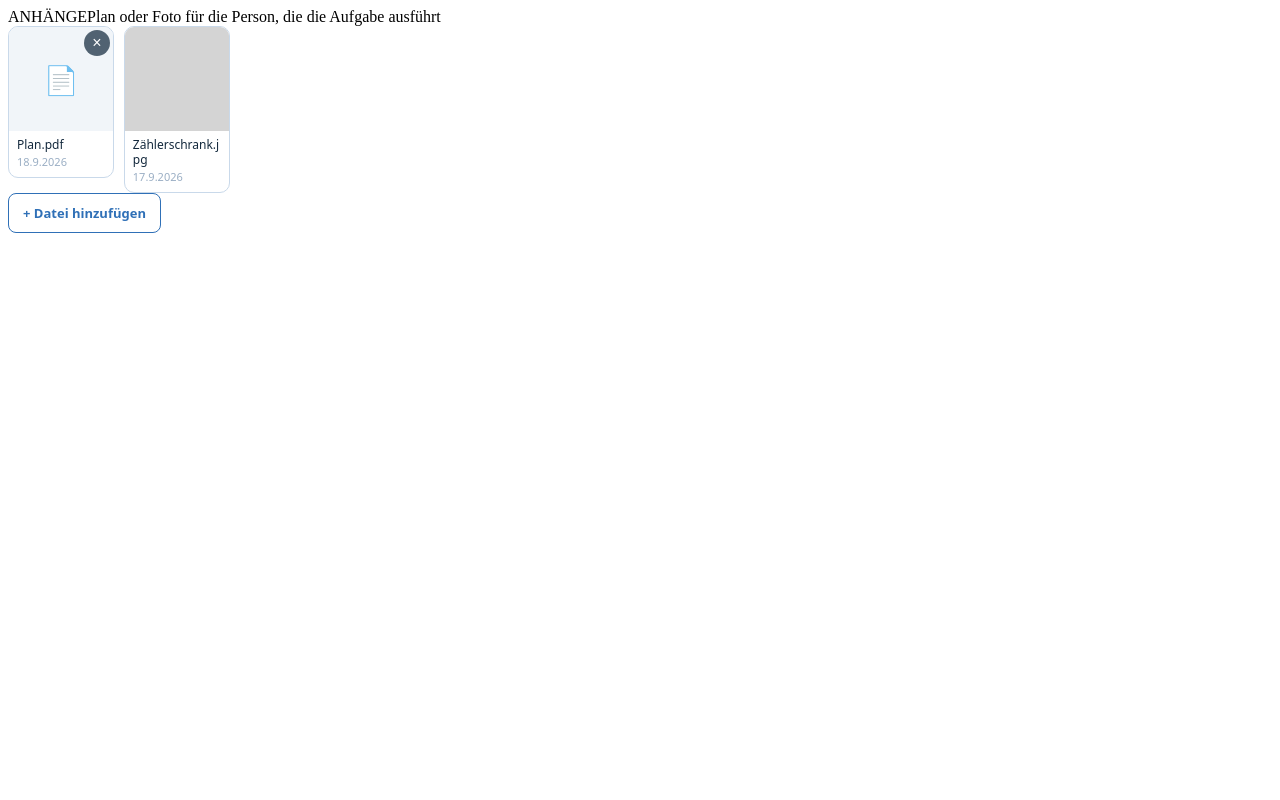
Test: TaskAttachments — an existing task › opens the viewer on the clicked file, with the task named under it
Click the button "📎 Zählerschrank.jpg 17.9.2026". click: (177, 109)
box: [124,26,230,193]
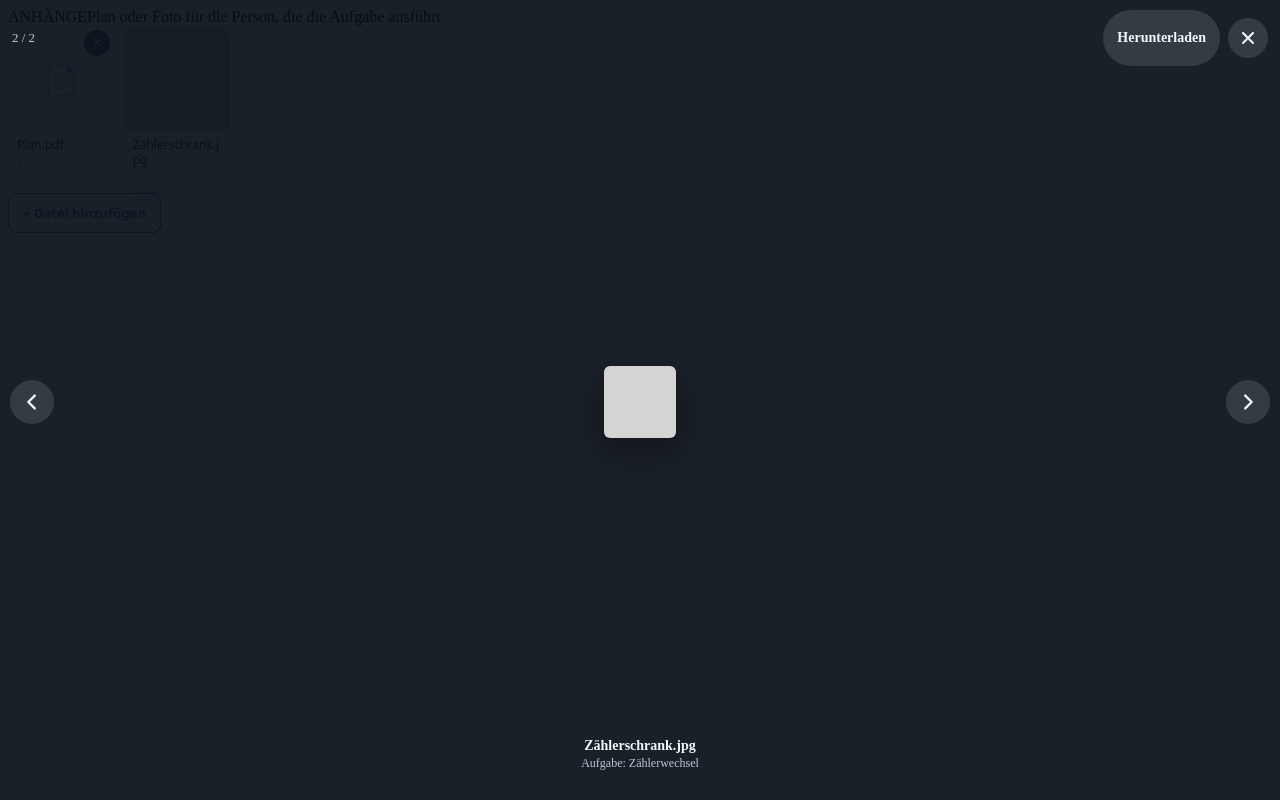
Expected: the text "2 / 2" is shown, [12,30,35,46]
Expected: the text "Aufgabe: Zählerwechsel" is shown, [581,756,699,771]
Click the button named "Schließen". click: (1248, 38)
box: [1228,18,1268,58]
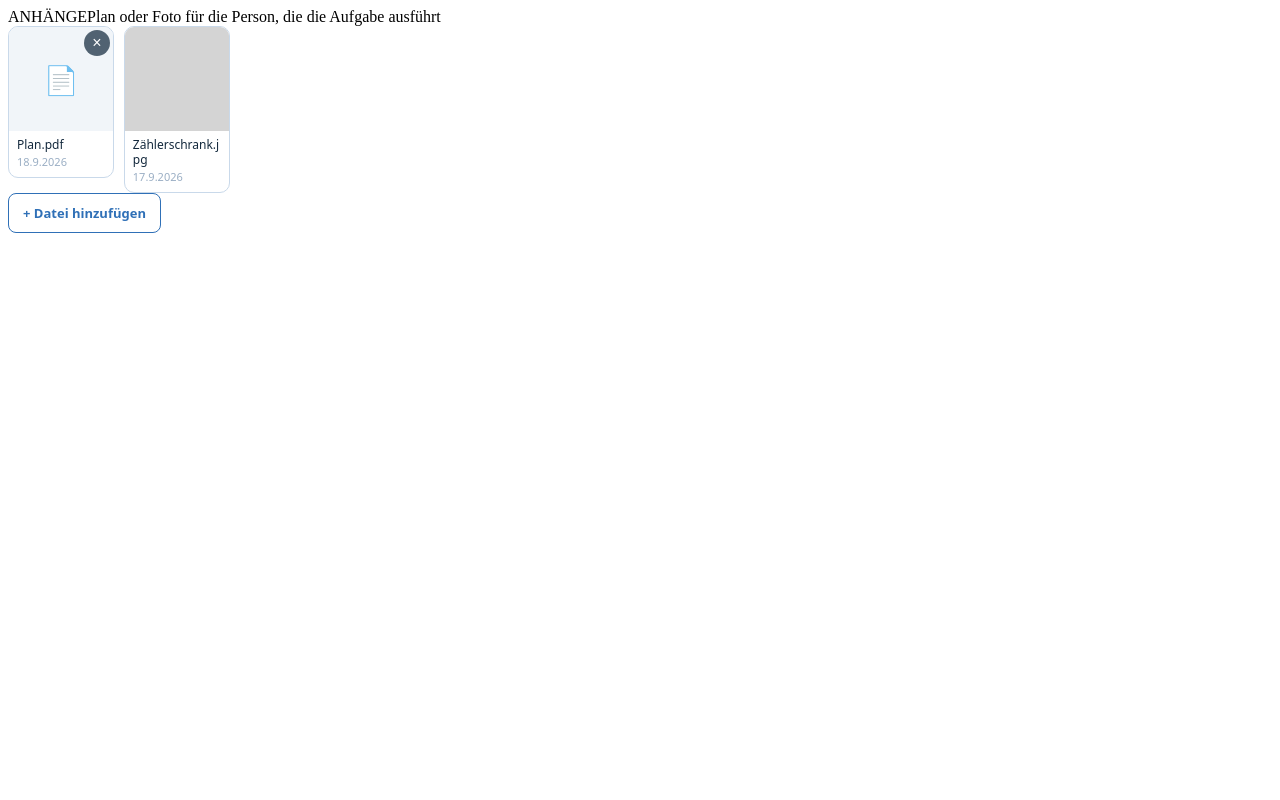
Expected: the dialog is gone
